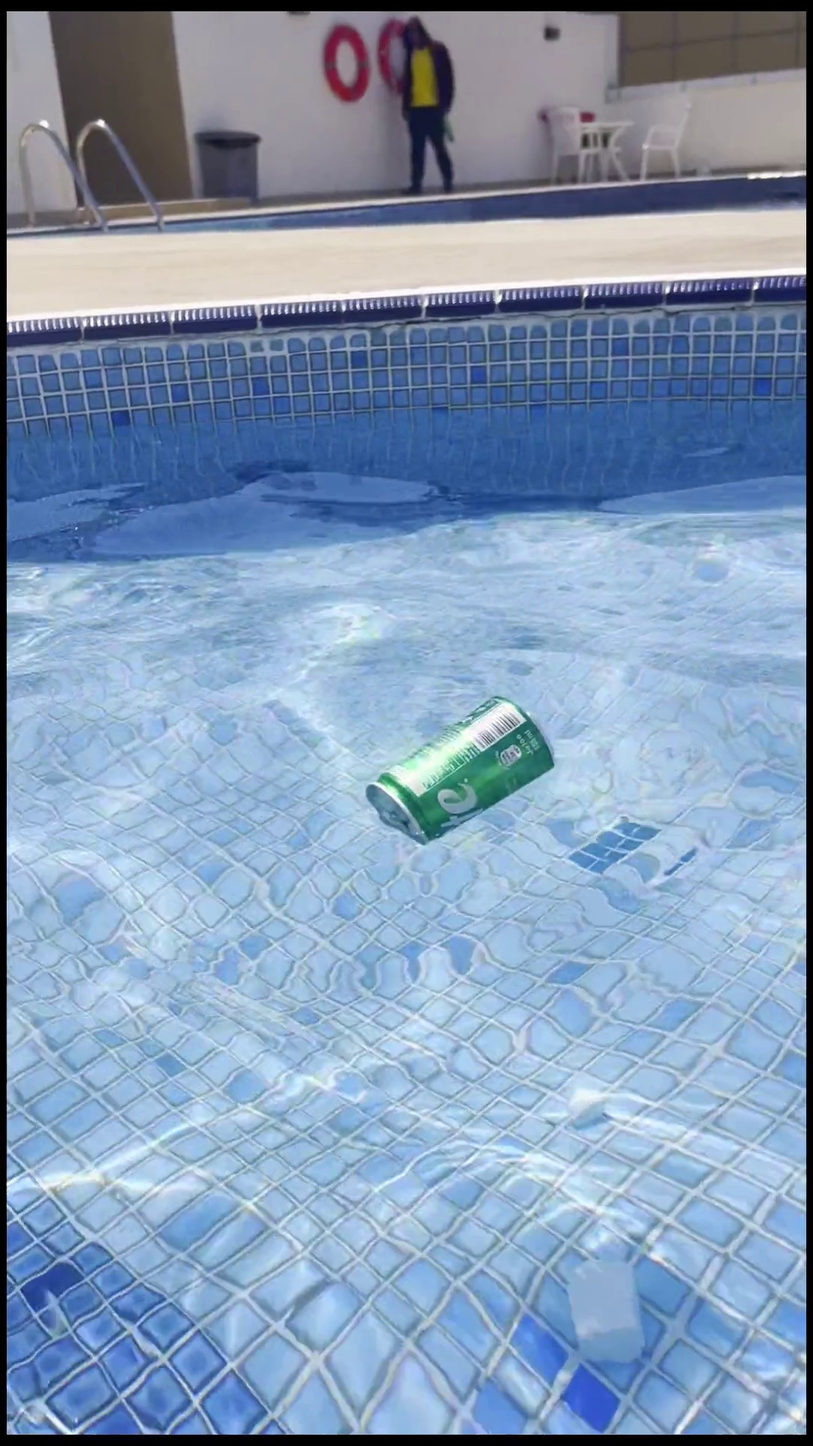debris: (361, 673, 558, 861)
